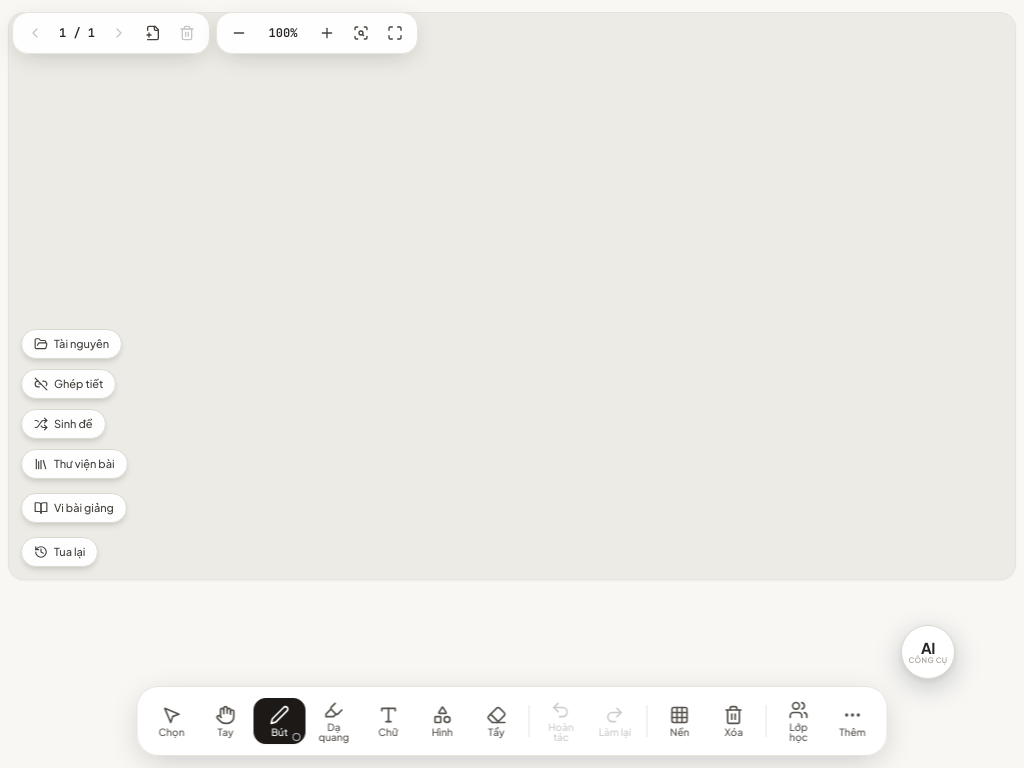
bảng trắng: thu phóng, trang, công cụ › thêm / chuyển / xóa trang; nét thuộc đúng trang
This screenshot has width=1024, height=768.
Expected: the text with test id "page-indicator" reads "1 / 1", [59,25,95,41]
Expected: the button with test id "page-delete" is disabled, [171,17,203,49]
Step 1. Click the button with test id "page-add" → (153, 33), box [137,17,169,49]
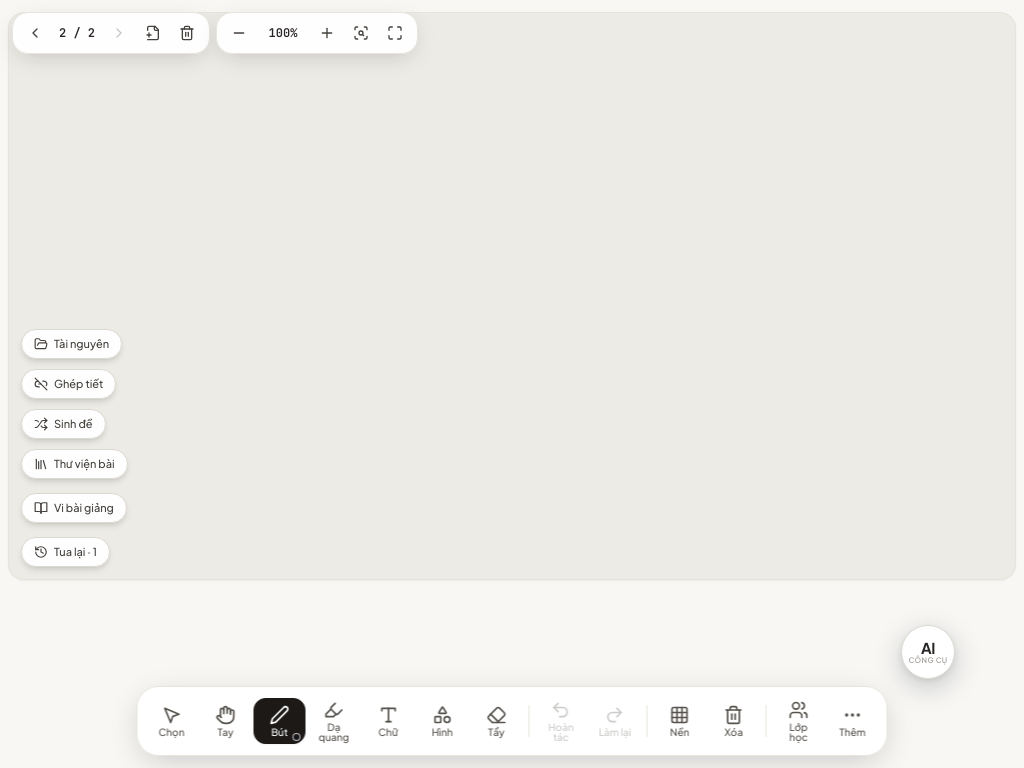
Expected: the button with test id "page-next" is disabled, [103,17,135,49]
Expected: the text with test id "page-indicator" reads "2 / 2", [59,25,95,41]
Step 2. Click the button with test id "page-prev" → (35, 33), box [19,17,51,49]
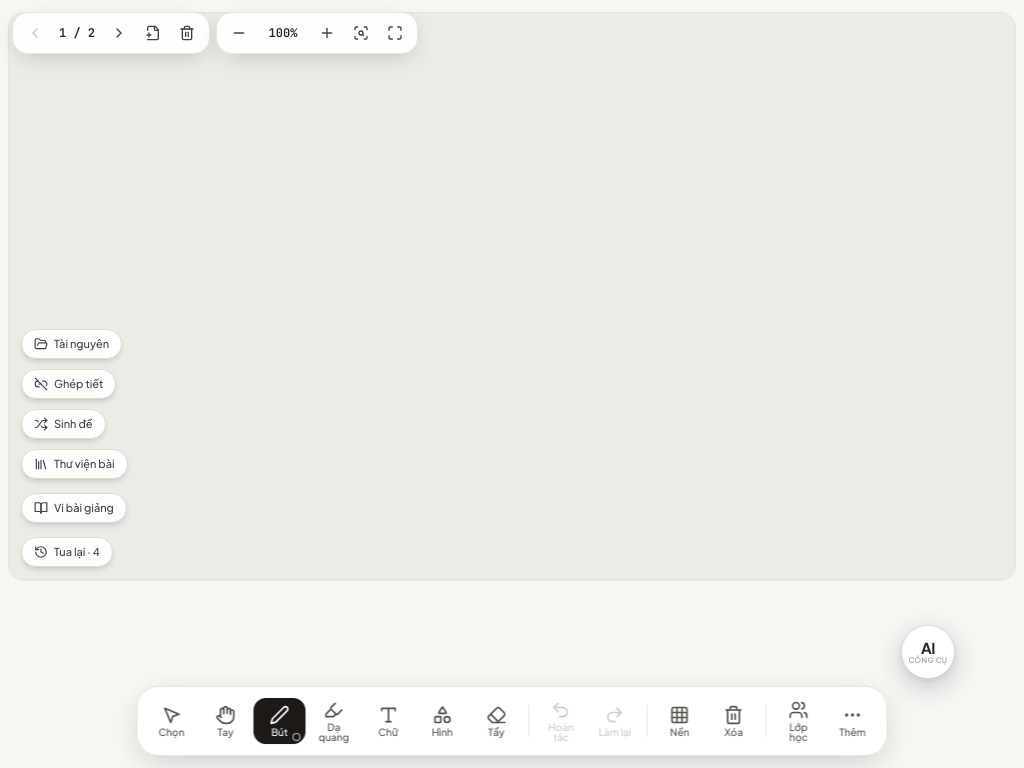
Expected: the text with test id "page-indicator" reads "1 / 2", [59,25,95,41]
Step 3. Click the button with test id "page-next" → (119, 33), box [103,17,135,49]
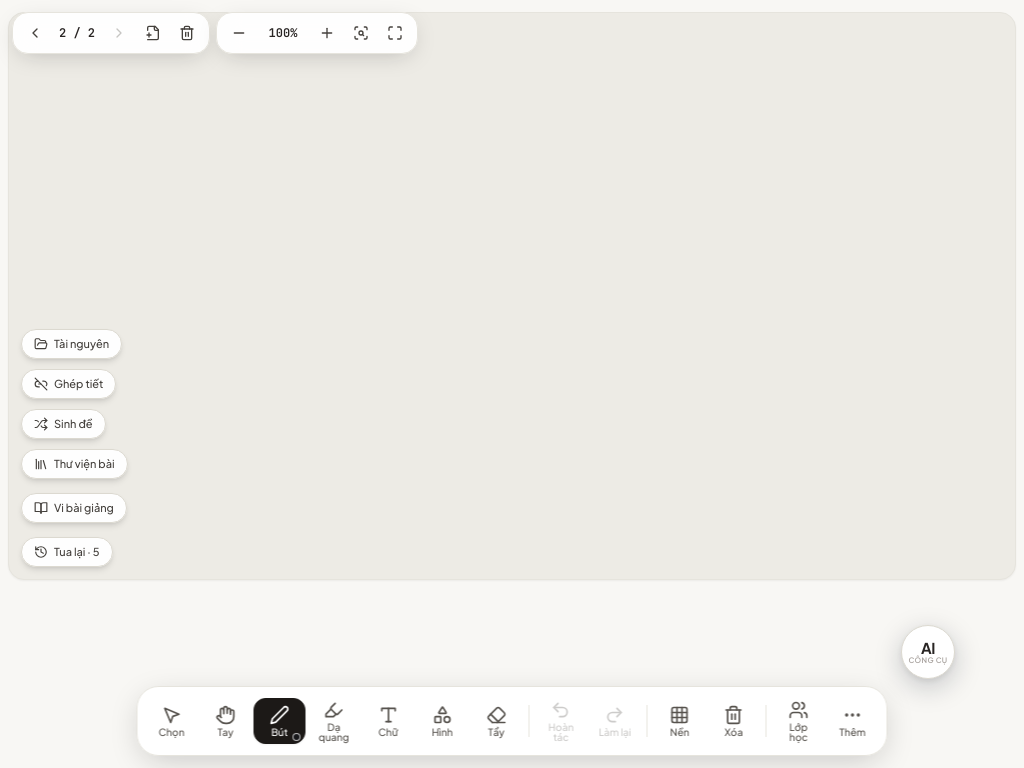
Step 4. Click the button with test id "page-delete" → (187, 33), box [171,17,203,49]
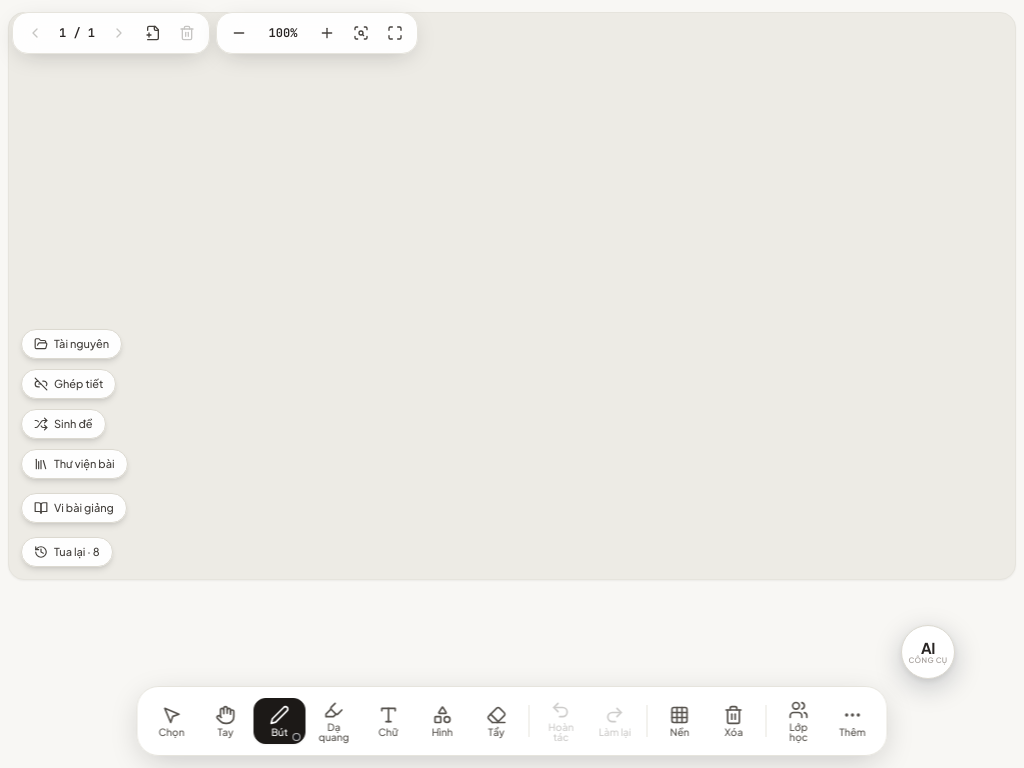
Expected: the text with test id "page-indicator" reads "1 / 1", [59,25,95,41]
